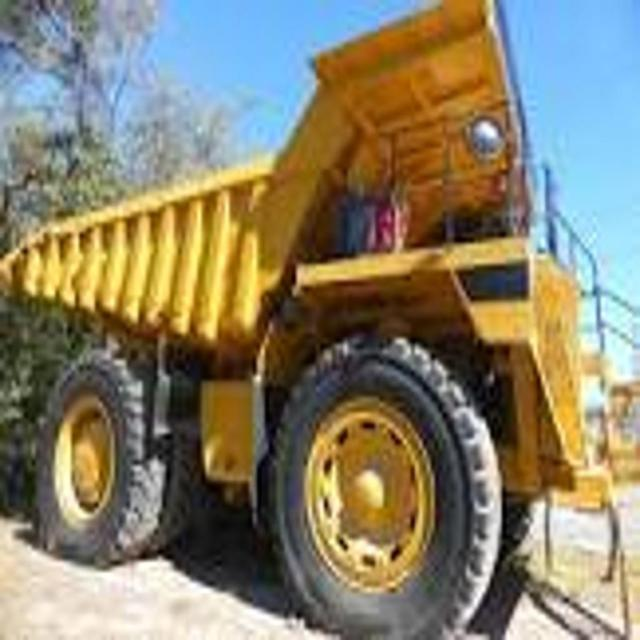dump_truck: (6, 3, 612, 640)
